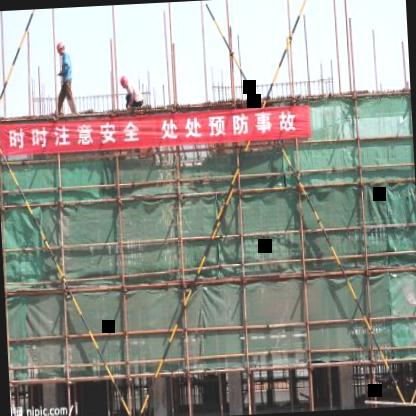helmet: (118, 72, 130, 90), (56, 40, 66, 57)
